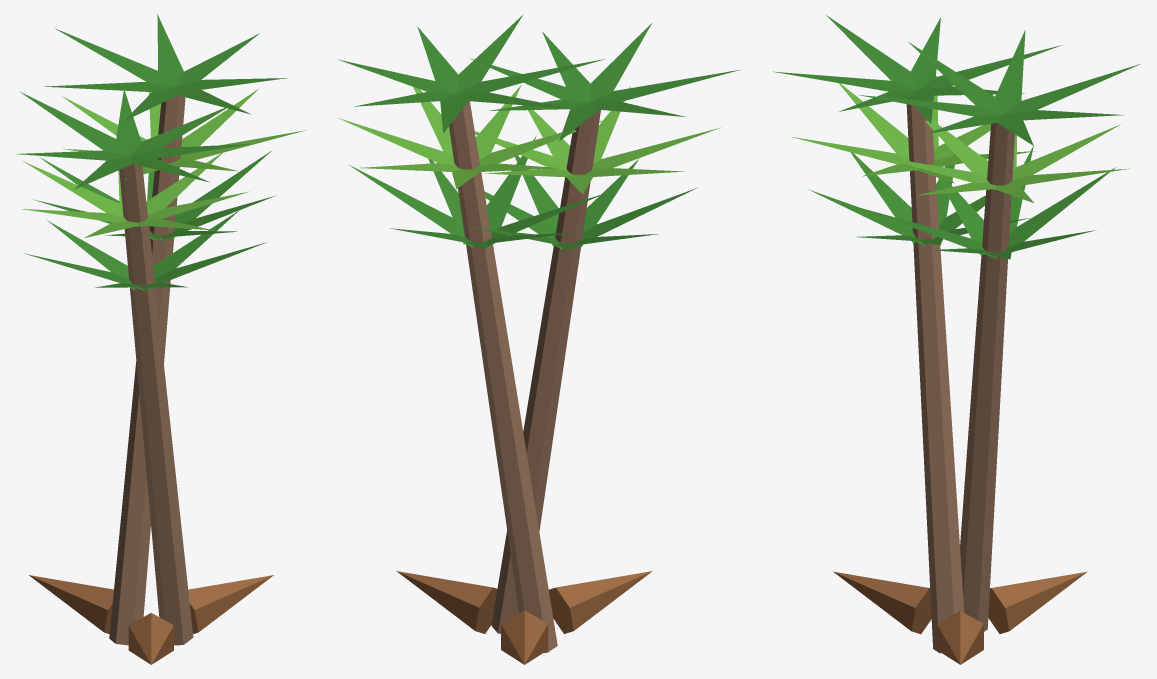
The model's file is cassava_4.obj.
3 renders of one model, left to right at view 1: azimuth 30°, elevation 25°; view 2: azimuth 150°, elevation 25°; view 3: azimuth 270°, elevation 25°, orthographic. The views are drawn at different scales.
Visible parts, largest first — view 1: plant; view 2: plant; view 3: plant.
Part boxes in pixels (<box>): plant: <box>16,14,305,664</box>; plant: <box>338,15,740,664</box>; plant: <box>773,14,1140,664</box>.
Size of the model in its own units: 0.517 by 0.9379 by 0.5485.
